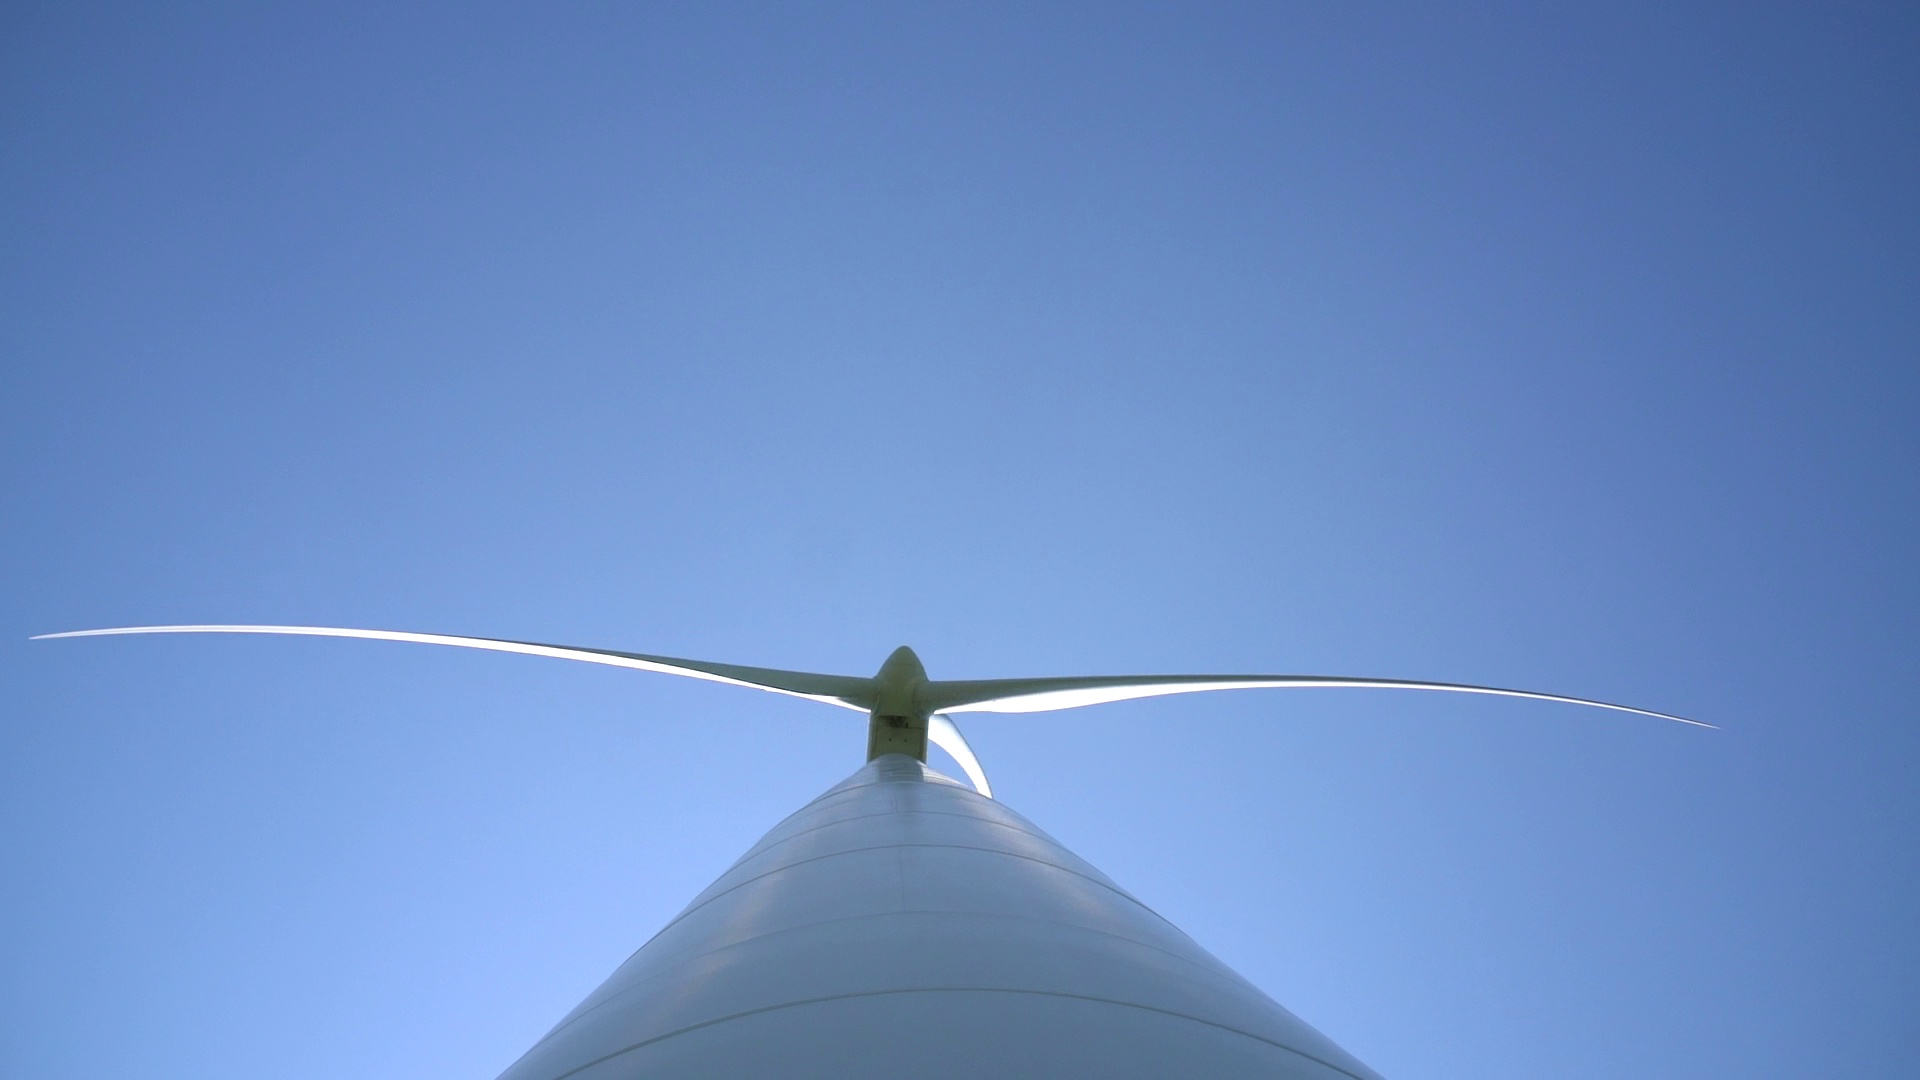turbine: (20, 597, 881, 728), (934, 637, 1768, 760), (920, 704, 1031, 803)
